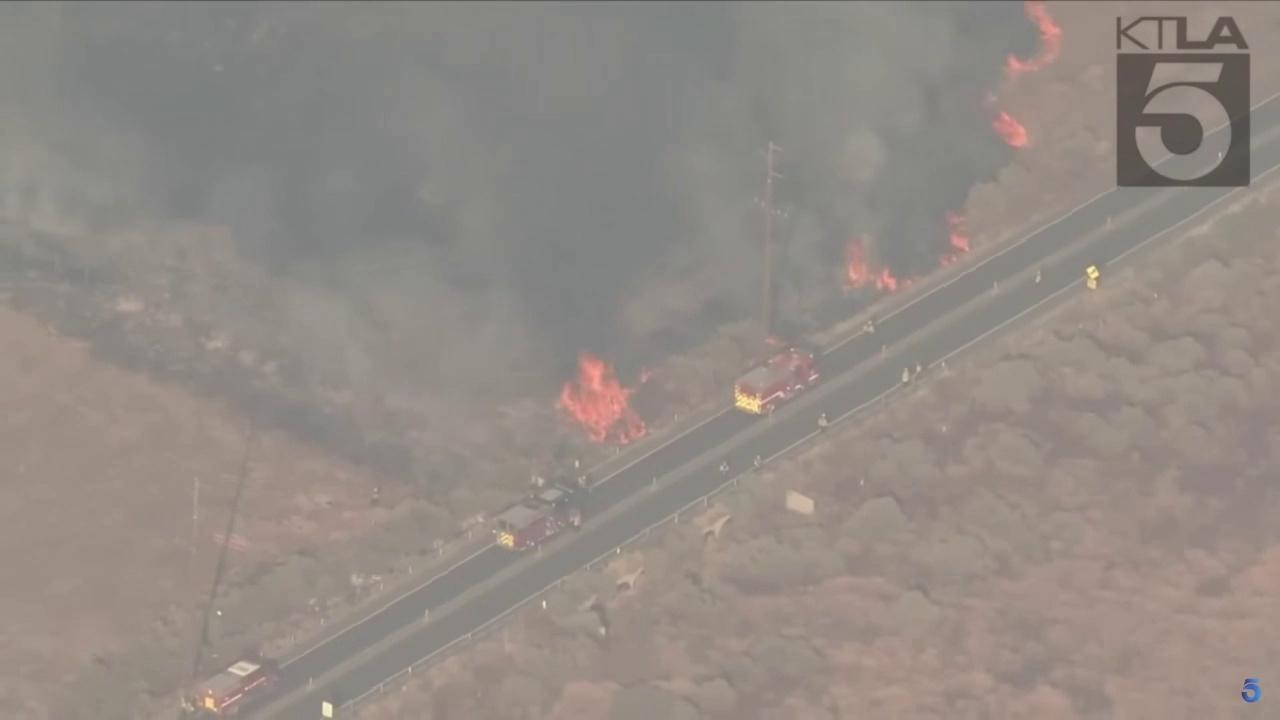fire: (554, 346, 657, 446), (1001, 0, 1065, 85), (838, 238, 900, 292), (933, 209, 971, 268), (986, 108, 1029, 151)
smoke: (0, 0, 1039, 478)
